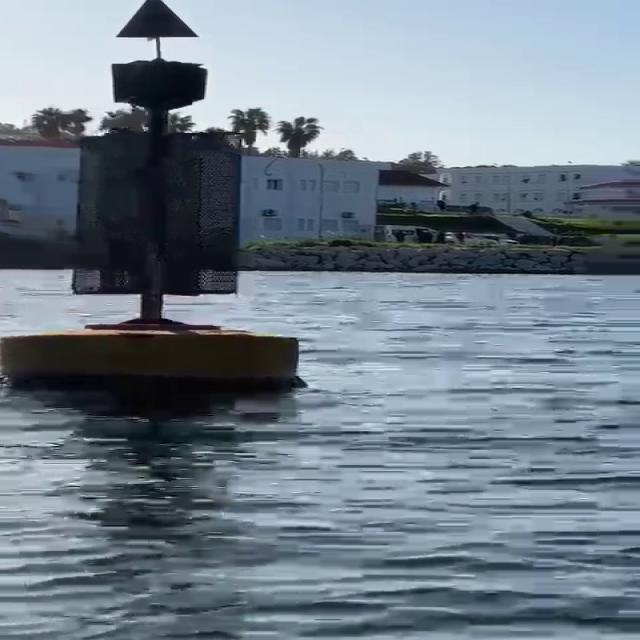marque: (1, 1, 290, 405)
